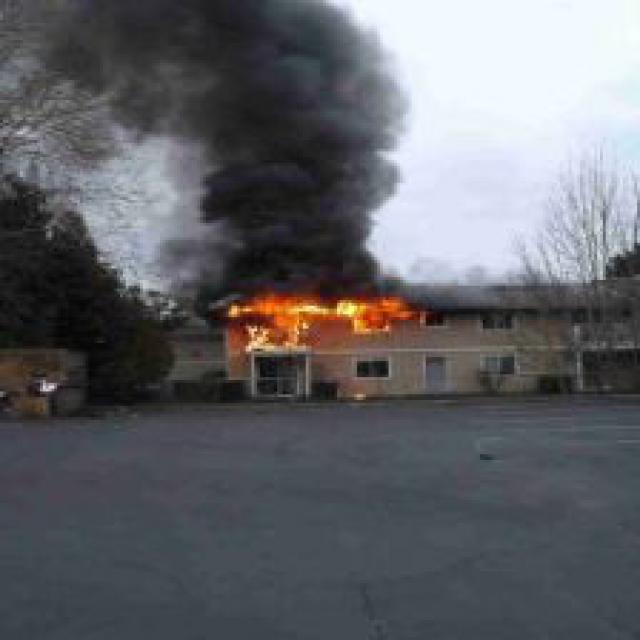fire: (214, 260, 420, 366)
